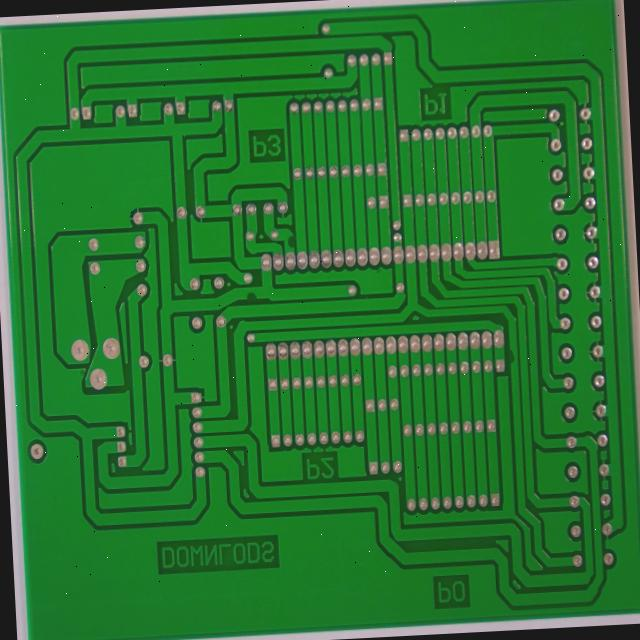mouse_bite: (491, 416, 508, 443), (196, 344, 216, 365), (242, 280, 257, 302)
